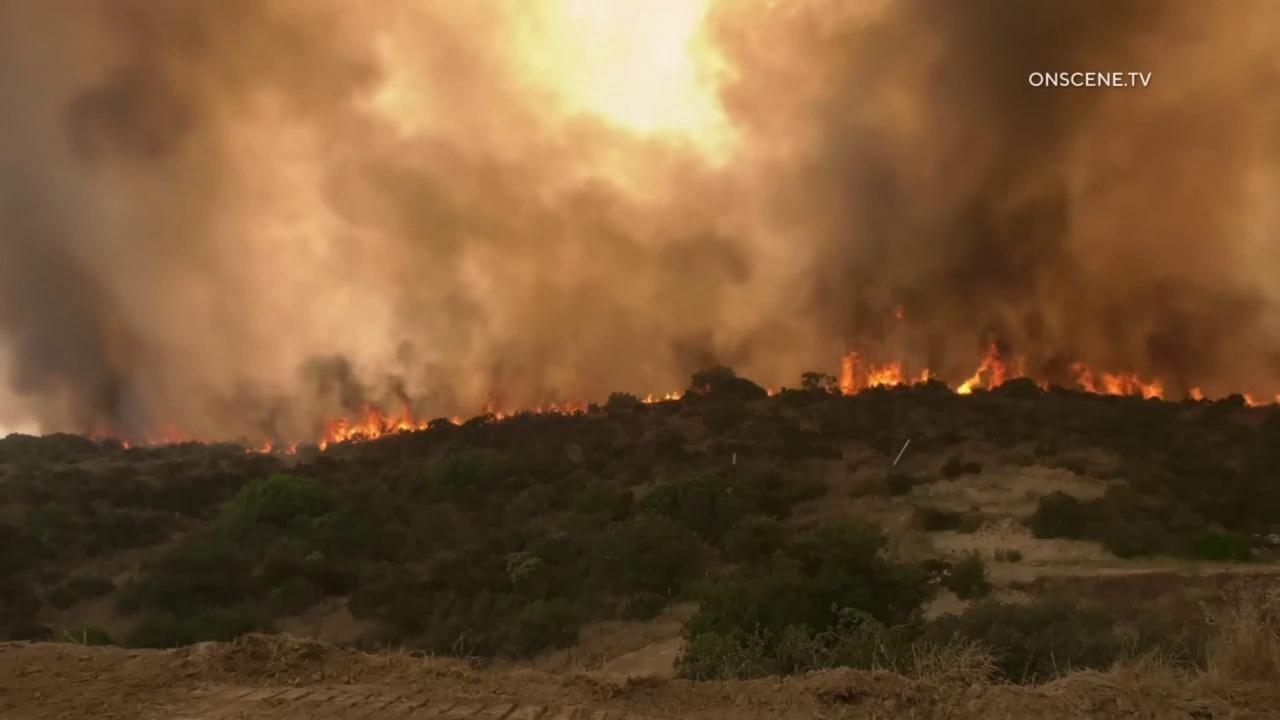fire: (317, 398, 428, 452), (838, 352, 931, 397), (1072, 362, 1165, 401), (957, 342, 1006, 396), (150, 420, 193, 446), (529, 401, 589, 415), (254, 432, 273, 455), (1241, 393, 1270, 408), (1188, 386, 1204, 402), (282, 438, 297, 455), (449, 415, 465, 427), (642, 393, 660, 403), (485, 397, 496, 413), (664, 391, 682, 400), (1037, 380, 1048, 392), (495, 412, 507, 422), (895, 308, 904, 320), (122, 440, 131, 451), (767, 387, 776, 397), (88, 435, 97, 443), (1274, 394, 1280, 404), (245, 448, 252, 454)
smoke: (0, 0, 1280, 438)
